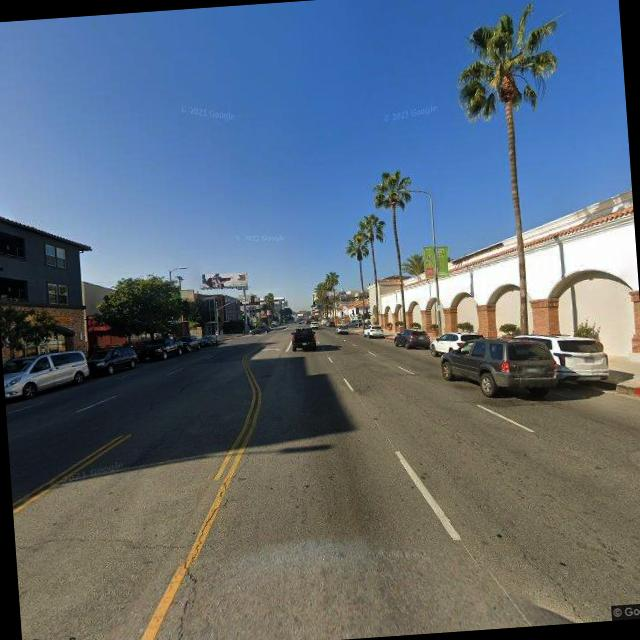crack: (163, 467, 243, 640), (14, 521, 190, 563), (508, 536, 588, 625)
